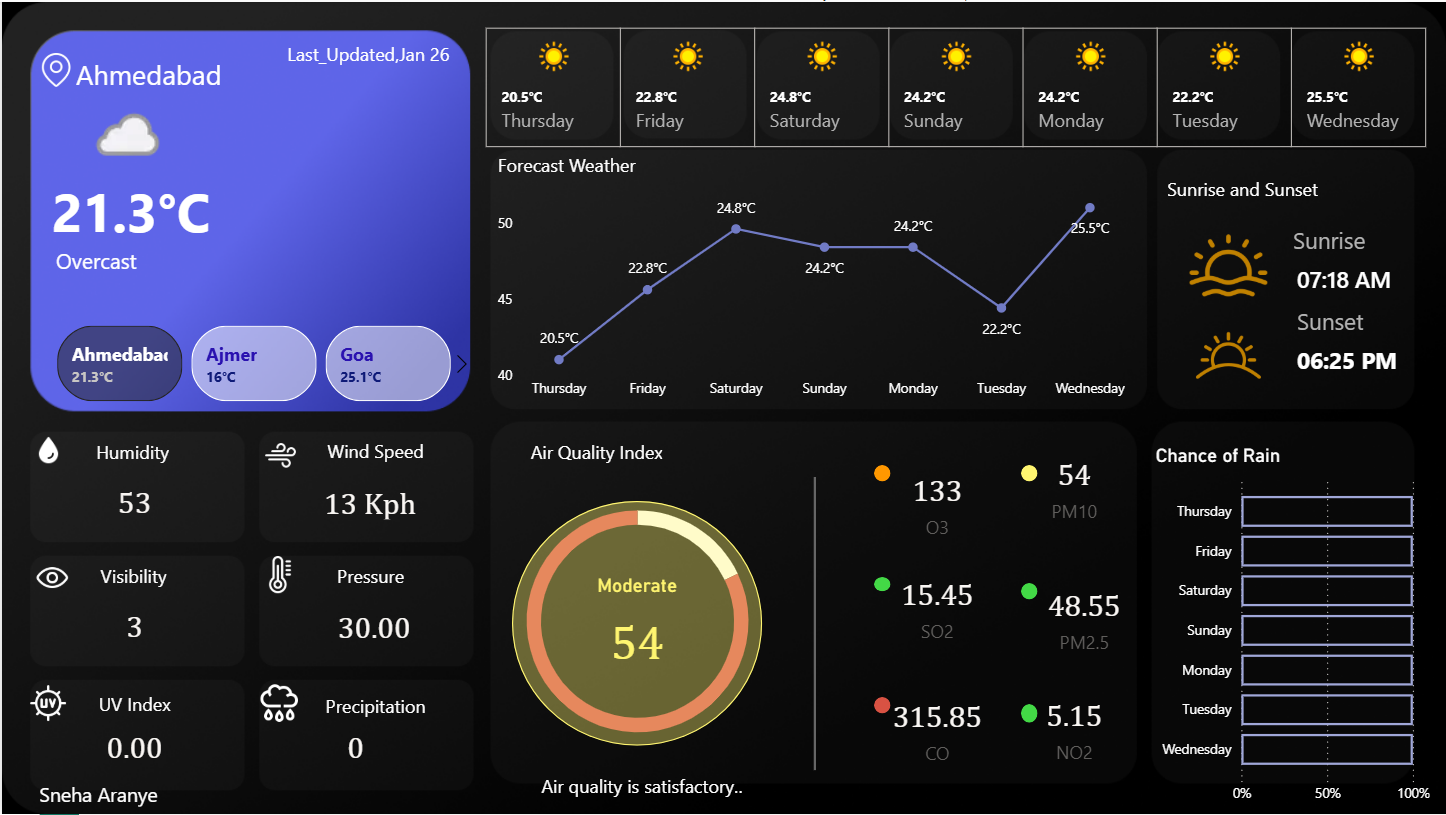

Layout of this report page (visuals, bound fields, positions):
{"tool":"powerbi","page":{"name":"Page 1","canvas":[1280,720],"ordinal":0},"visuals":[{"type":"donutChart","fields":{"Y":["Sum(current.current.air_quality.pm10)","Measure.left_value_PM10"]},"box":[409.4,421.1,307.8,256],"z":0},{"type":"shape","box":[452.4,442.6,221.8,216.9],"z":1000},{"type":"advancedSlicerVisual","fields":{"Values":["locations.location.name"]},"box":[24.3,282.1,399.8,77.8],"z":2000},{"type":"shape","box":[44,120.2,246.2,127],"z":3000},{"type":"shape","box":[48.2,211.7,185.6,35.1],"z":4000},{"type":"shape","box":[65.2,45.1,185.6,35.1],"z":5000},{"type":"shape","box":[211.1,28.3,185.6,34.2],"z":6000},{"type":"image","box":[23.1,45.1,50.2,30.1],"z":7000},{"type":"cardVisual","fields":{"Data":["Min(current.current.condition.icon)"]},"box":[0,60.2,189.6,114.4],"z":8000},{"type":"image","box":[15,493.5,58.2,33.1],"z":9000},{"type":"shape","box":[24.1,491.5,185.6,35.1],"z":10000},{"type":"shape","box":[238.7,380.2,185.6,35.1],"z":11000},{"type":"shape","box":[233.7,491.5,185.6,35.1],"z":12000},{"type":"shape","box":[238.7,606.9,185.6,35.1],"z":13000},{"type":"shape","box":[23.1,381.2,185.6,35.1],"z":14000},{"type":"shape","box":[25.1,604.9,185.6,35.1],"z":15000},{"type":"image","box":[18.1,385.2,47.1,25.1],"z":16000},{"type":"image","box":[223.7,387.2,46.1,29.1],"z":17000},{"type":"image","box":[210.7,491.5,71.2,33.1],"z":18000},{"type":"image","box":[8,604.9,65.2,34.1],"z":19000},{"type":"image","box":[216.7,600.9,59.2,41.1],"z":20000},{"type":"card","fields":{"Values":["Sum(current.current.humidity)"]},"box":[85.6,425,63.2,38.9],"z":21000},{"type":"card","fields":{"Values":["Measure.Wind_Speed"]},"box":[263.8,425,124.1,39.1],"z":22000},{"type":"card","fields":{"Values":["Sum(current.current.pressure_in)"]},"box":[284.3,534.5,90.9,39.1],"z":23000},{"type":"card","fields":{"Values":["Sum(current.current.uv)"]},"box":[85.6,641.9,63.2,38.9],"z":24000},{"type":"card","fields":{"Values":["Sum(current.current.vis_km)"]},"box":[85.6,535,63.2,38.9],"z":25000},{"type":"card","fields":{"Values":["Sum(current.current.precip_in)"]},"box":[282.1,641.9,63.2,38.9],"z":26000},{"type":"advancedSlicerVisual","fields":{"Values":["Forcast_Day.Day_Name"]},"box":[424.1,17.6,844.2,116.3],"z":27000},{"type":"lineChart","title":"Forecast Weather","fields":{"Y":["Sum(Forcast_Day.forecast.forecastday.day.avgtemp_c)"],"Category":["Forcast_Day.Day_Name"]},"box":[434.8,133.9,572.6,226.7],"z":28000},{"type":"shape","box":[1007.4,148.5,185.6,35.2],"z":29000},{"type":"shape","box":[1148.1,222.8,100.6,44.9],"z":30000},{"type":"shape","box":[1148.1,300,106.5,34.2],"z":31000},{"type":"shape","box":[1145.2,186.6,94.8,49.8],"z":32000},{"type":"shape","box":[1148.1,263.8,94.8,36.2],"z":33000},{"type":"image","box":[1040.6,199.3,92.8,68.4],"z":34000},{"type":"image","box":[1040.6,274.6,92.8,77.2],"z":35000},{"type":"hundredPercentStackedBarChart","title":"Chance of Rain","fields":{"Y":["Sum(Forcast_Day.forecast.forecastday.day.daily_chance_of_rain)","current.Left_value_rain"],"Category":["Forcast_Day.Day_Name"]},"box":[1018.1,391.8,253.1,328.3],"z":36000},{"type":"shape","box":[434.8,381.1,185.6,35.2],"z":37000},{"type":"card","fields":{"Values":["Sum(current.current.air_quality.o3)"]},"box":[772.9,406.5,112.4,75.2],"z":38000},{"type":"card","fields":{"Values":["Sum(current.current.air_quality.no2)"]},"box":[895,605.8,112.4,75.2],"z":39000},{"type":"card","fields":{"Values":["Sum(current.current.air_quality.pm2_5)"]},"box":[903.8,508.1,112.4,75.2],"z":40000},{"type":"card","fields":{"Values":["Sum(current.current.air_quality.pm10)"]},"box":[895,391.8,112.4,75.2],"z":41000},{"type":"card","fields":{"Values":["Sum(current.current.air_quality.co)"]},"box":[772.9,606.8,112.4,75.2],"z":42000},{"type":"card","fields":{"Values":["Sum(current.current.air_quality.so2)"]},"box":[772.9,498.3,112.4,75.2],"z":43000},{"type":"shape","box":[772.9,410.4,14.7,14.7],"z":44000},{"type":"shape","box":[772.9,510,14.7,12.7],"z":45000},{"type":"shape","box":[903.8,514.9,14.7,14.7],"z":46000},{"type":"shape","box":[903.8,410.4,14.7,14.7],"z":47000},{"type":"shape","box":[772.9,616.5,14.7,14.7],"z":48000},{"type":"shape","box":[903.8,622.4,14.7,16.6],"z":49000},{"type":"shape","box":[684,421.1,74.3,259.9],"z":50000},{"type":"card","fields":{"Values":["Sum(current.current.air_quality.pm10)"]},"box":[507.1,507.1,112.4,97.7],"z":51000},{"type":"shape","box":[471,677.1,185.6,35.2],"z":51001},{"type":"shape","box":[0,684.9,171,35.2],"z":51002}]}

Visuals, with their boxes in screenshot pixels (x1, y1, x2, y2), scaled from the page's 1280x720 canvas onto the 1446x815 screenshot:
donutChart - Sum(current.current.air_quality.pm10) x Measure.left_value_PM10: [462,477,810,766]
shape: [511,501,762,747]
advancedSlicerVisual - locations.location.name: [27,319,479,407]
shape: [50,136,328,280]
shape: [54,240,264,279]
shape: [74,51,283,91]
shape: [238,32,448,71]
image: [26,51,83,85]
cardVisual - Min(current.current.condition.icon): [0,68,214,198]
image: [17,559,83,596]
shape: [27,556,237,596]
shape: [270,430,479,470]
shape: [264,556,474,596]
shape: [270,687,479,727]
shape: [26,431,236,471]
shape: [28,685,238,724]
image: [20,436,74,464]
image: [253,438,305,471]
image: [238,556,318,594]
image: [9,685,83,723]
image: [245,680,312,727]
card - Sum(current.current.humidity): [97,481,168,525]
card - Measure.Wind_Speed: [298,481,438,525]
card - Sum(current.current.pressure_in): [321,605,424,649]
card - Sum(current.current.uv): [97,727,168,771]
card - Sum(current.current.vis_km): [97,606,168,650]
card - Sum(current.current.precip_in): [319,727,390,771]
advancedSlicerVisual - Forcast_Day.Day_Name: [479,20,1433,152]
"Forecast Weather" lineChart: [491,152,1138,408]
shape: [1138,168,1348,208]
shape: [1297,252,1411,303]
shape: [1297,340,1417,378]
shape: [1294,211,1401,268]
shape: [1297,299,1404,340]
image: [1176,226,1280,303]
image: [1176,311,1280,398]
"Chance of Rain" hundredPercentStackedBarChart: [1150,443,1436,814]
shape: [491,431,701,471]
card - Sum(current.current.air_quality.o3): [873,460,1000,545]
card - Sum(current.current.air_quality.no2): [1011,686,1138,771]
card - Sum(current.current.air_quality.pm2_5): [1021,575,1148,660]
card - Sum(current.current.air_quality.pm10): [1011,443,1138,529]
card - Sum(current.current.air_quality.co): [873,687,1000,772]
card - Sum(current.current.air_quality.so2): [873,564,1000,649]
shape: [873,465,890,481]
shape: [873,577,890,592]
shape: [1021,583,1038,599]
shape: [1021,465,1038,481]
shape: [873,698,890,714]
shape: [1021,705,1038,723]
shape: [773,477,857,771]
card - Sum(current.current.air_quality.pm10): [573,574,700,685]
shape: [532,766,742,806]
shape: [0,775,193,814]
